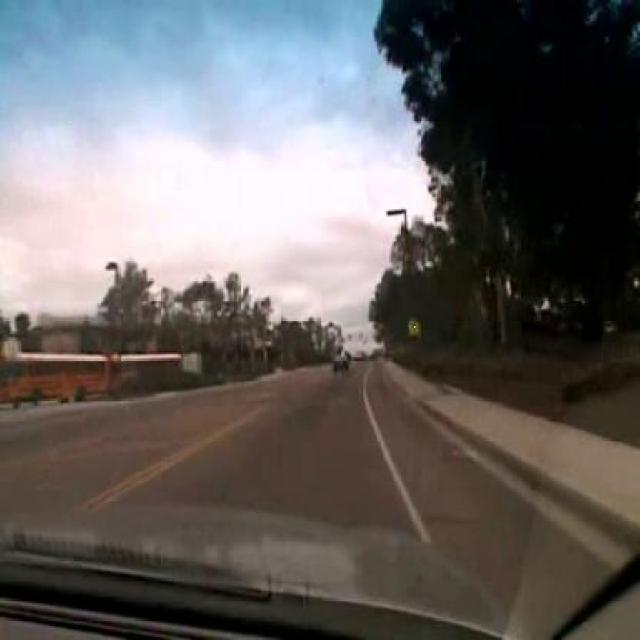school: (408, 317, 419, 332)
